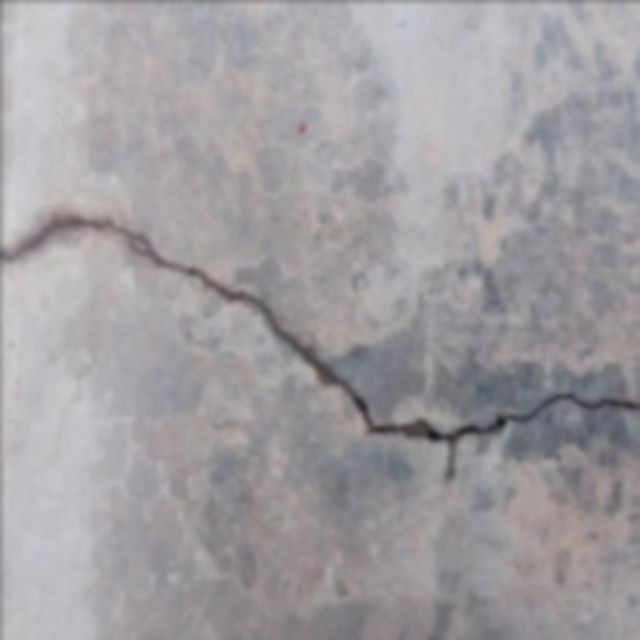SurfaceCrack: (2, 198, 640, 502)
